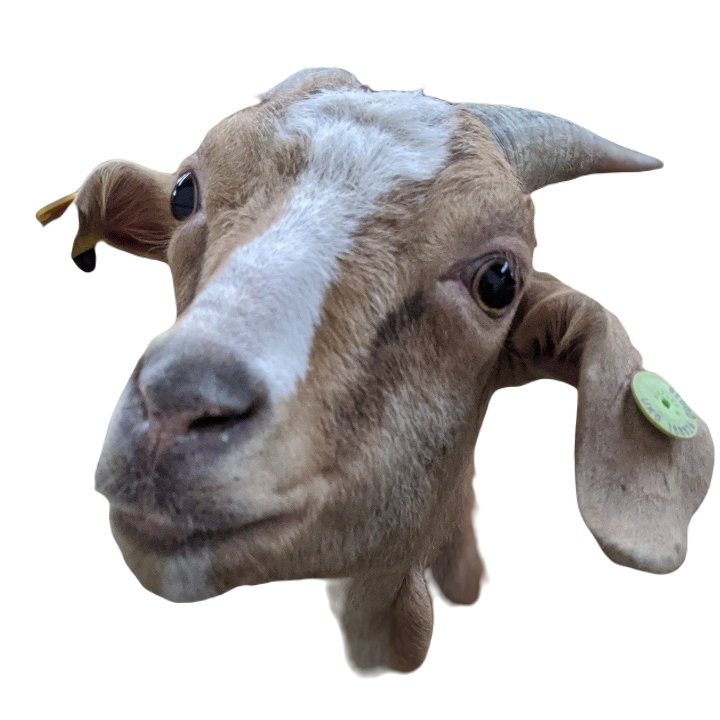Goat: (32, 62, 716, 678)
